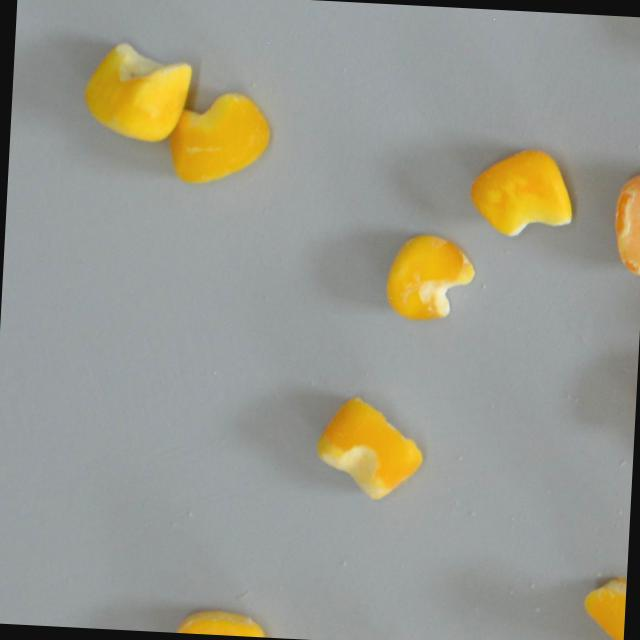estandar: (312, 394, 425, 501), (578, 575, 627, 640)
no_canjicado: (166, 82, 272, 191), (465, 144, 576, 241)
pelicula: (383, 231, 478, 326), (608, 170, 640, 281), (169, 606, 271, 638)
punto_negro: (80, 36, 193, 144)
